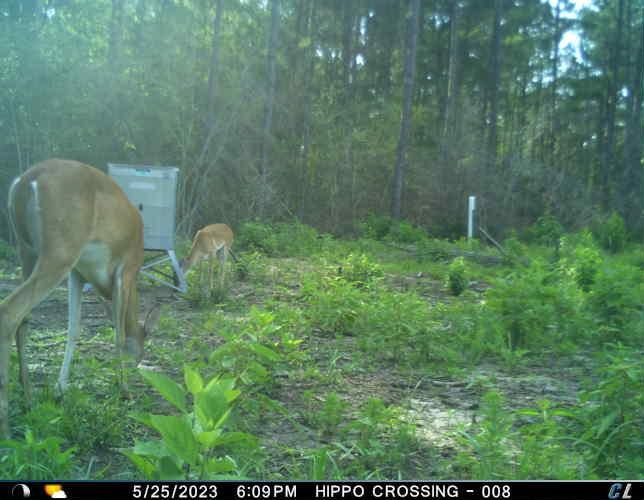Deer: (0, 155, 164, 407), (177, 219, 235, 293)
